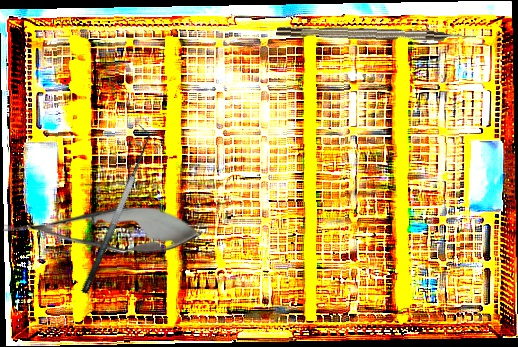Hook Surgical: (276, 25, 477, 43)
Micro Scissor: (3, 203, 202, 257)
Spatula Surgical: (66, 123, 161, 296)
